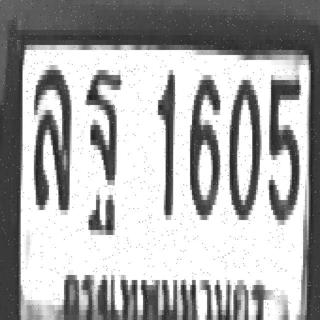A16: (84, 65, 120, 210)
A36: (32, 62, 70, 208)
N00: (228, 75, 258, 215)
N01: (156, 65, 173, 215)
N05: (267, 70, 299, 220)
N06: (188, 70, 218, 215)
P04: (49, 248, 311, 320)
